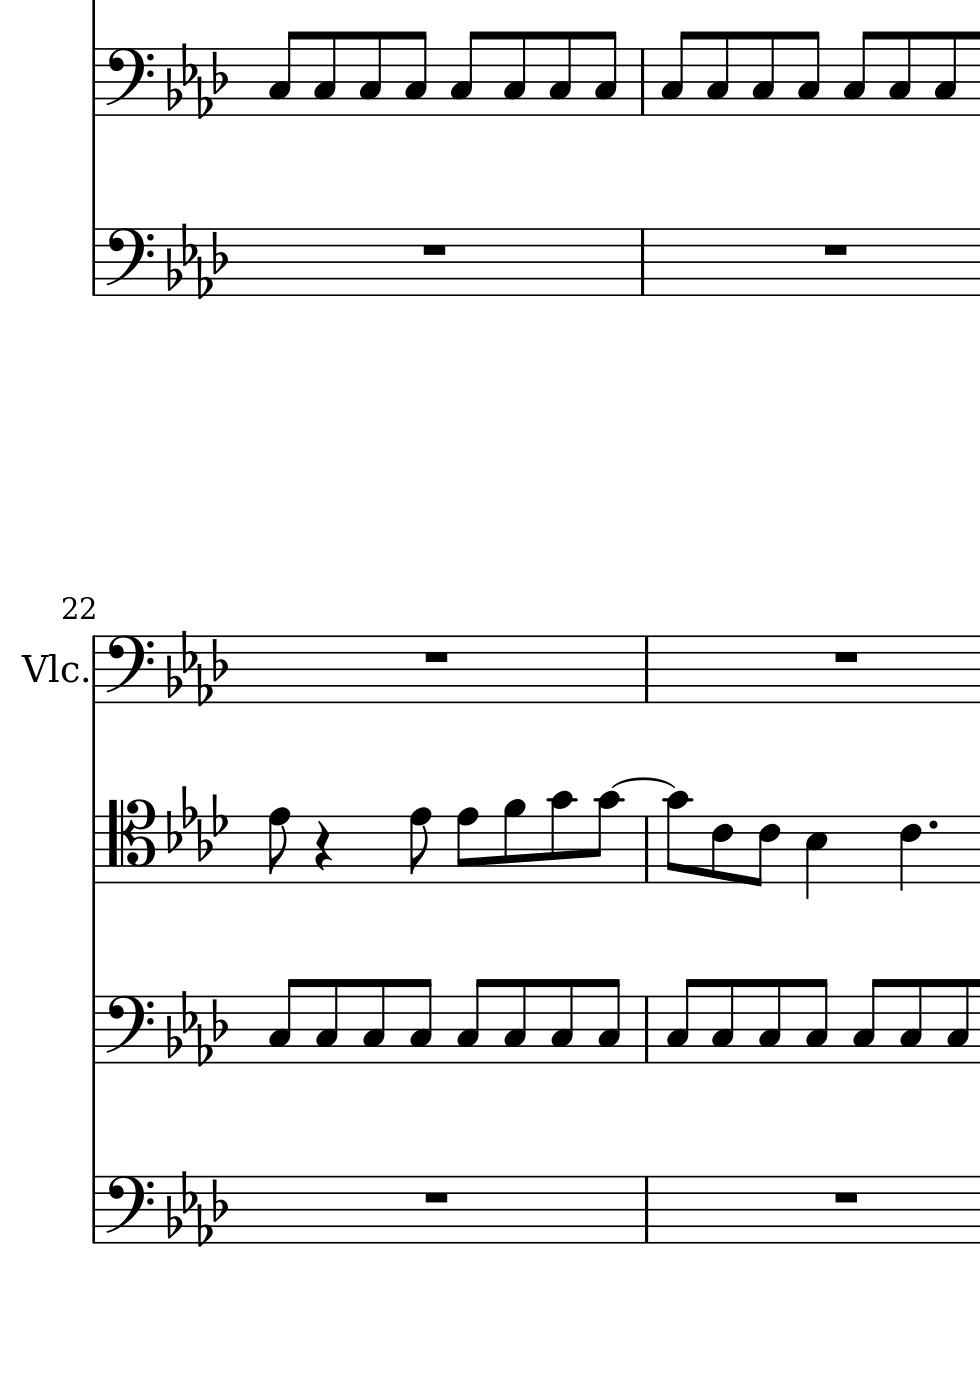2: (77, 595, 97, 621), (60, 595, 78, 621)
4_5: (803, 814, 829, 902)
4_6: (896, 813, 921, 895)
8_10: (589, 791, 623, 885), (664, 791, 692, 885), (547, 790, 574, 885)
8_3: (851, 976, 883, 1065), (449, 30, 482, 118), (267, 29, 299, 116), (660, 29, 692, 116), (267, 977, 299, 1064), (842, 29, 873, 117), (455, 977, 486, 1065), (666, 976, 697, 1064), (313, 977, 340, 1065), (502, 29, 528, 118), (710, 977, 736, 1066), (803, 976, 829, 1065), (945, 976, 972, 1065), (887, 29, 913, 117), (360, 977, 386, 1065), (502, 977, 528, 1065), (312, 30, 338, 117), (403, 29, 428, 118), (593, 28, 618, 117), (549, 977, 575, 1066), (757, 977, 783, 1066), (898, 976, 924, 1065), (596, 977, 622, 1065), (548, 29, 573, 118), (751, 29, 775, 118), (934, 29, 959, 118), (358, 29, 383, 117), (705, 29, 730, 117), (408, 976, 432, 1065), (797, 29, 820, 117)
8_6: (750, 814, 780, 889), (708, 814, 733, 887)
8_8: (454, 806, 480, 885), (266, 805, 292, 885), (406, 806, 432, 885)
8_9: (501, 799, 526, 885)
A_F: (164, 785, 229, 862), (164, 989, 229, 1067), (164, 221, 227, 300), (165, 41, 228, 118), (164, 1170, 226, 1247), (164, 630, 226, 706)
Fclef: (103, 993, 154, 1064), (104, 634, 154, 706), (104, 47, 154, 117), (104, 226, 154, 295), (104, 1174, 154, 1242)
Rests1: (818, 240, 851, 261), (829, 1188, 862, 1208), (418, 240, 450, 260), (830, 647, 862, 667), (419, 1188, 452, 1207), (420, 648, 452, 666)
Rests4: (312, 820, 333, 874)
Single_barline: (632, 48, 653, 116), (632, 228, 652, 296), (636, 1176, 657, 1244), (637, 996, 657, 1063), (86, 48, 104, 116), (85, 1176, 103, 1244), (637, 635, 655, 702), (86, 229, 103, 296), (86, 997, 103, 1064), (86, 815, 102, 883), (638, 817, 654, 882), (87, 636, 102, 704)
Slur: (609, 776, 676, 790)
Tensor_Cclef: (105, 797, 153, 883)
Vlc: (20, 649, 78, 688)
dot: (925, 817, 941, 834)
